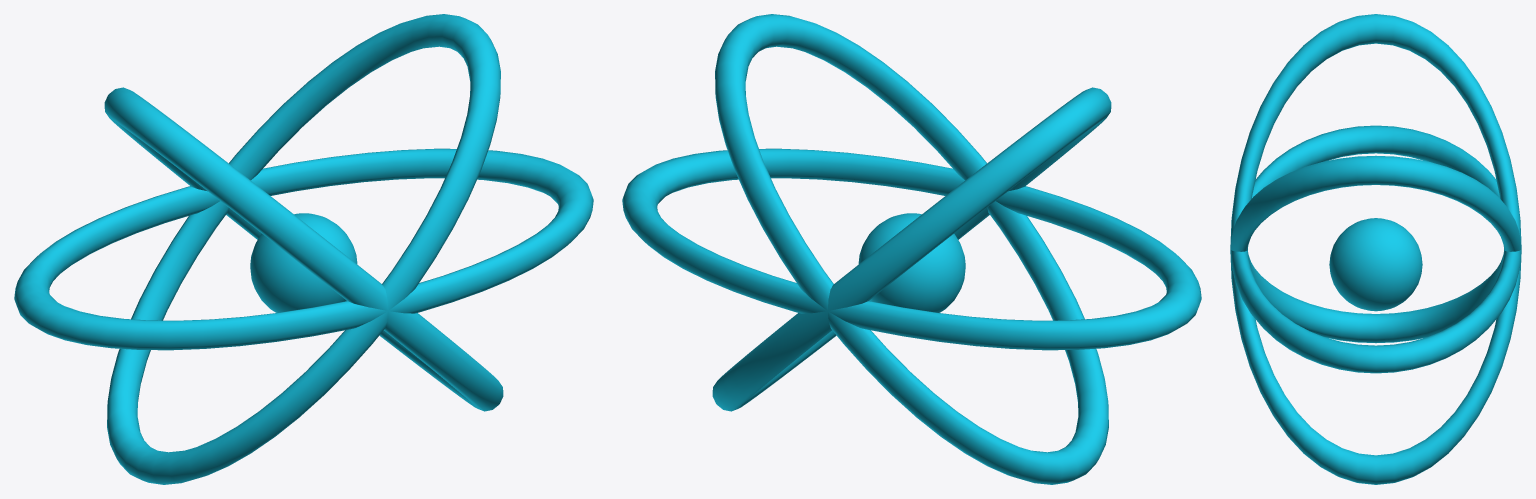
The model's file is react.glb.
3 renders of one model, left to right at view 1: azimuth 30°, elevation 25°; view 2: azimuth 150°, elevation 25°; view 3: azimuth 270°, elevation 25°, orthographic. The views are drawn at different scales.
Parts seen in each view (by area): view 1: Torus.002, Torus.005, Torus.001, Sphere; view 2: Torus.002, Torus.005, Torus.001, Sphere; view 3: Torus.001, Torus.002, Torus.005, Sphere.
Boxes of the visible parts, x1=… form: Torus.002: x1=107, y1=14, x2=500, y2=484; Torus.005: x1=14, y1=148, x2=593, y2=350; Torus.001: x1=104, y1=87, x2=503, y2=411; Sphere: x1=250, y1=213, x2=357, y2=312; Torus.002: x1=715, y1=14, x2=1108, y2=484; Torus.005: x1=622, y1=148, x2=1201, y2=350; Torus.001: x1=712, y1=87, x2=1111, y2=411; Sphere: x1=858, y1=213, x2=965, y2=312; Torus.001: x1=1230, y1=14, x2=1521, y2=484; Torus.002: x1=1230, y1=155, x2=1521, y2=343; Torus.005: x1=1230, y1=125, x2=1521, y2=373; Sphere: x1=1329, y1=218, x2=1422, y2=311.
Bounding box in the file's own units: 2.73 × 1.78 × 1.44.
